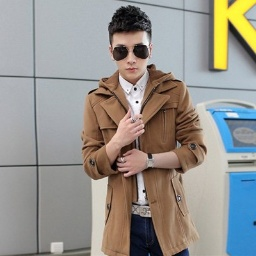face: (106, 4, 155, 77)
